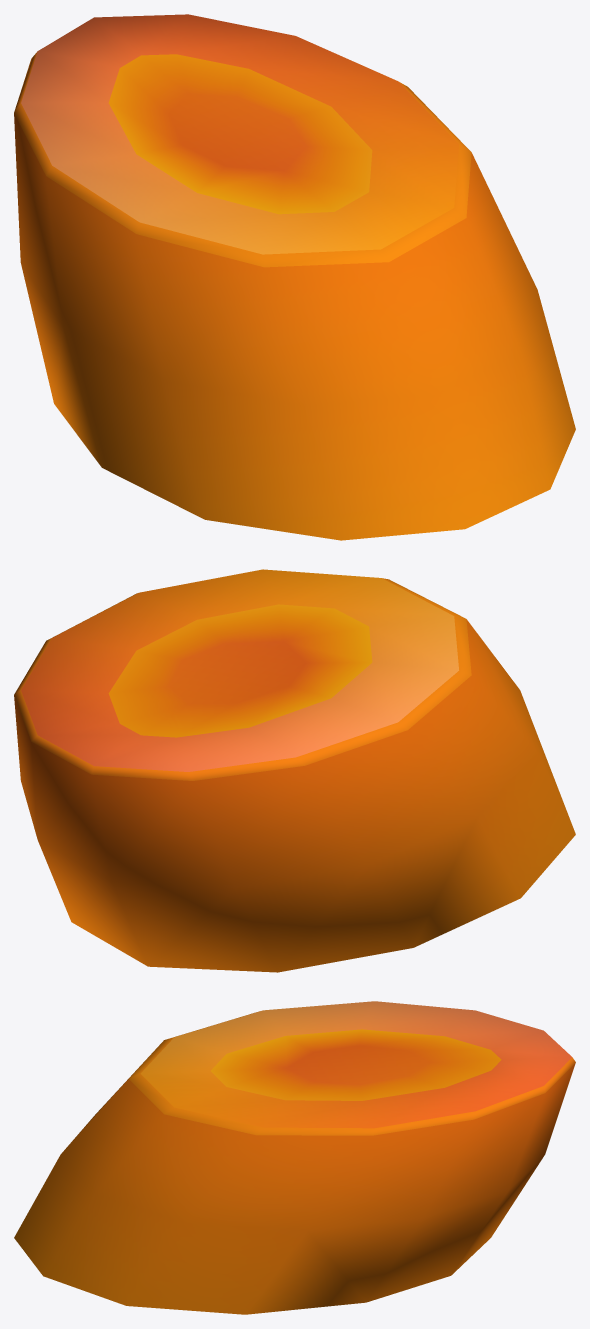
The model's file is carrot_003.fbx.
3 renders of one model, top to bottom at view 1: azimuth 30°, elevation 25°; view 2: azimuth 150°, elevation 25°; view 3: azimuth 270°, elevation 25°, orthographic. The views are drawn at different scales.
Parts seen in each view (by area): view 1: carrot_003; view 2: carrot_003; view 3: carrot_003.
Boxes of the visible parts, x1,y1,x2,y2 form: carrot_003: (14, 14, 575, 540); carrot_003: (14, 569, 575, 972); carrot_003: (14, 1001, 575, 1314).
Bounding box in the file's own units: 5.83 × 9 × 3.19.
